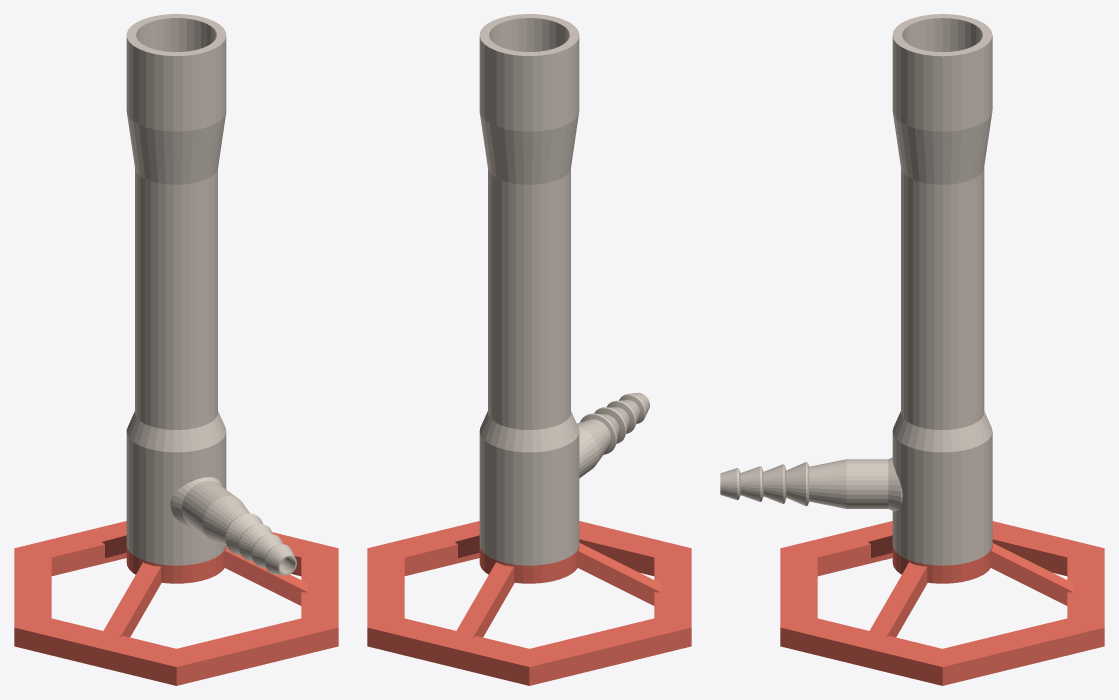
Rendered from Bunsen_Burner.fbx.
The picture shows the model from 3 angles, left to right: view 1: azimuth 30°, elevation 25°; view 2: azimuth 150°, elevation 25°; view 3: azimuth 270°, elevation 25°; orthographic projection.
Visible parts, largest first — view 1: Pipe.2, Base2, Nozzle.2, Inlet2; view 2: Pipe.2, Base2, Nozzle.2, Inlet2; view 3: Pipe.2, Base2, Nozzle.2, Inlet2.
Part boxes in pixels (box(x1,y1,x2,y2)): Pipe.2: box(126, 169, 226, 565); Base2: box(14, 521, 338, 685); Nozzle.2: box(126, 14, 226, 184); Inlet2: box(170, 477, 296, 575); Pipe.2: box(479, 169, 579, 565); Base2: box(367, 521, 691, 685); Nozzle.2: box(479, 14, 579, 184); Inlet2: box(577, 392, 649, 478); Pipe.2: box(892, 167, 992, 565); Base2: box(780, 521, 1104, 685); Nozzle.2: box(892, 14, 992, 184); Inlet2: box(720, 457, 902, 511).
Size of the model in its own units: 180 by 303 by 185.
